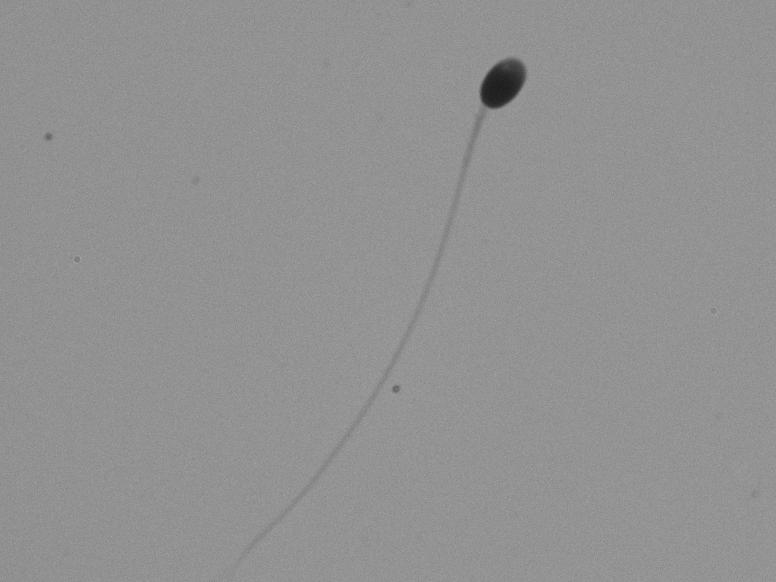Normal: (244, 49, 629, 526)
